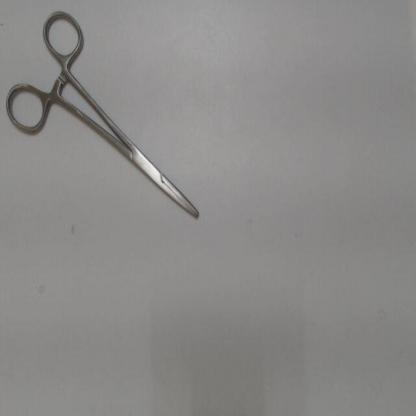Mayo Needle Holder: (3, 4, 220, 237)
